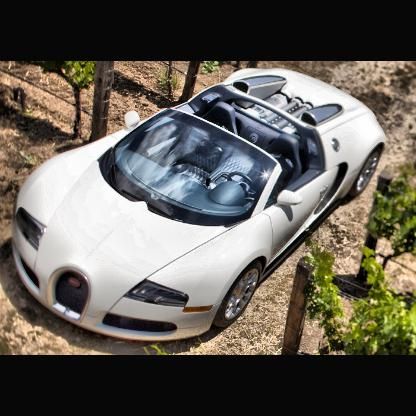Bugatti Veyron 16-4 Convertible 2009: (13, 68, 387, 343)
